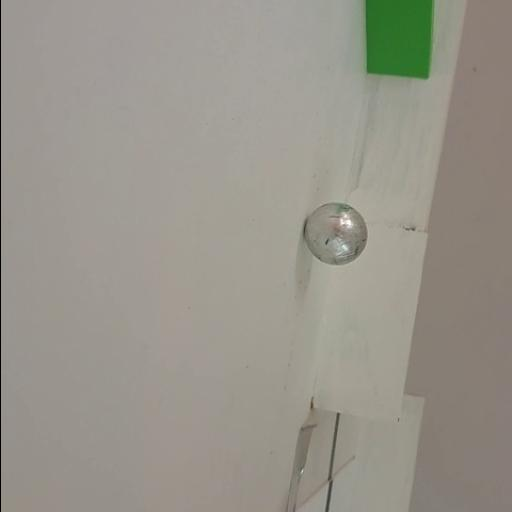alive: (302, 200, 370, 268)
